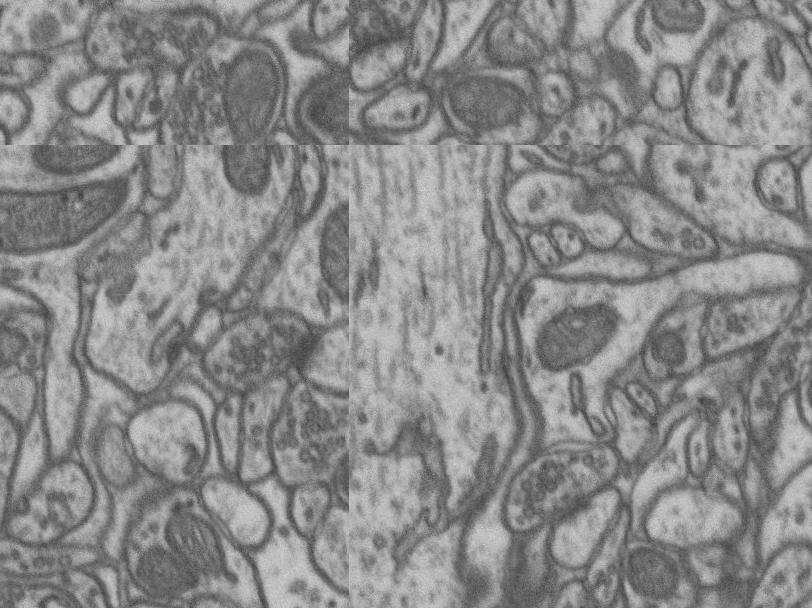mitochondria: (0, 181, 127, 257), (521, 290, 616, 388), (424, 51, 515, 140), (215, 48, 287, 145), (616, 534, 687, 600), (634, 316, 706, 375), (136, 543, 202, 602), (316, 193, 349, 310), (303, 62, 349, 145), (161, 509, 225, 568), (28, 145, 136, 179), (626, 0, 709, 42), (498, 551, 556, 608), (217, 145, 277, 196), (0, 323, 26, 383)
